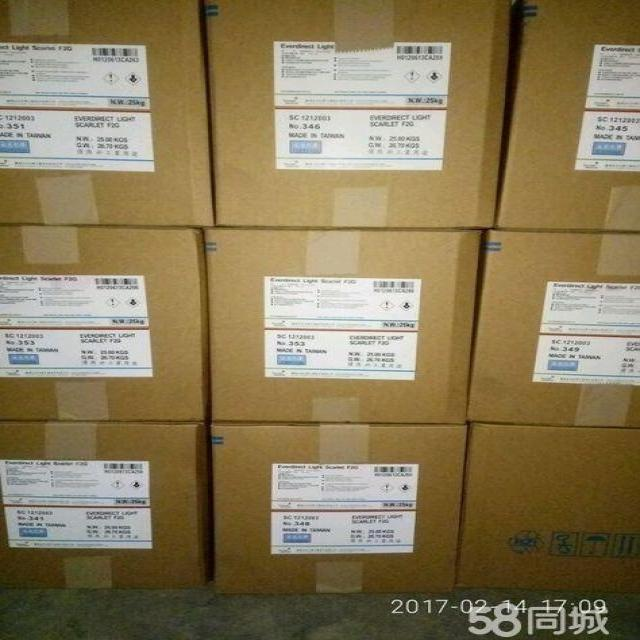box: (203, 0, 512, 227), (201, 226, 486, 418), (0, 1, 215, 229), (214, 418, 469, 593), (0, 222, 211, 423), (1, 423, 215, 589), (464, 230, 639, 424), (494, 2, 639, 234), (455, 421, 639, 594)
